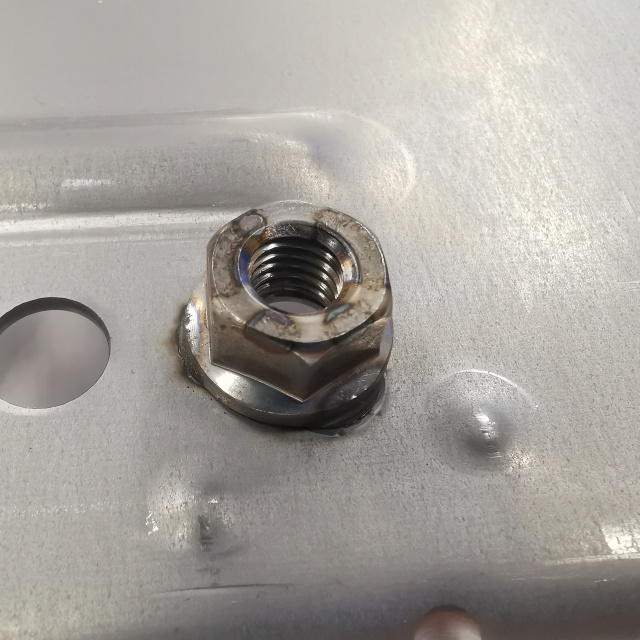dog: (175, 194, 397, 436)
